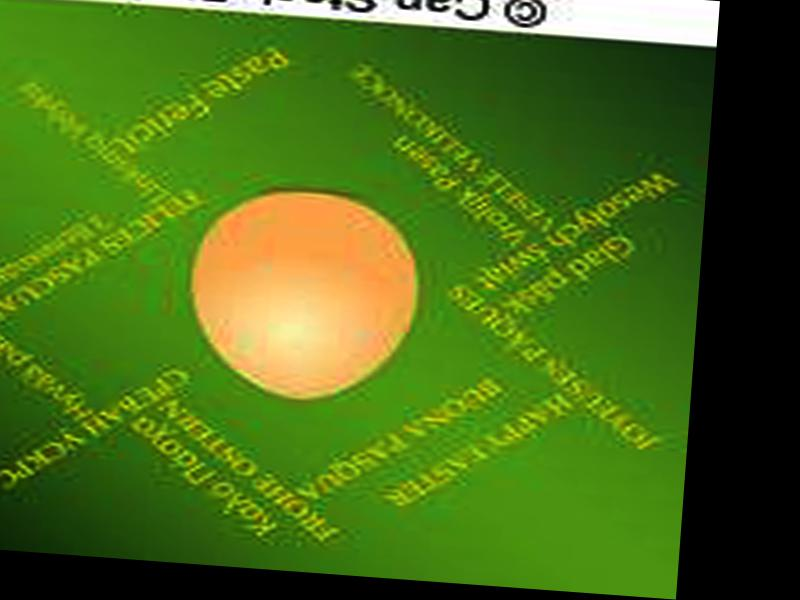Eggs: (187, 184, 423, 406)
